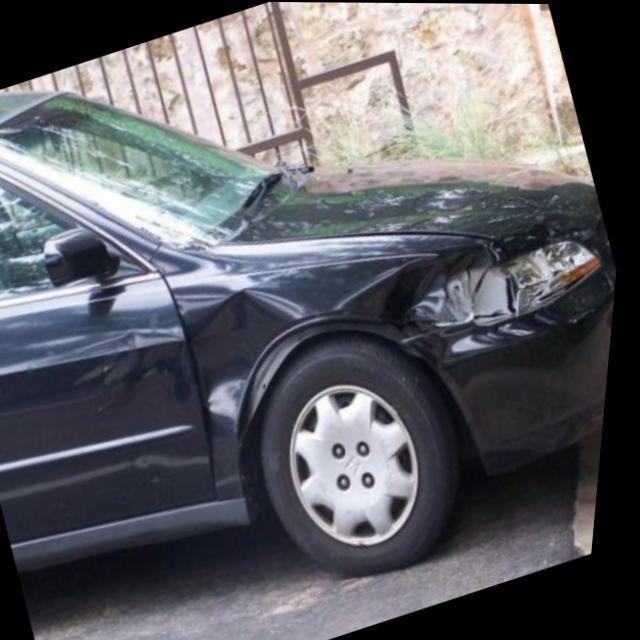dent: (194, 289, 312, 440)
lamp broken: (407, 244, 610, 332)
